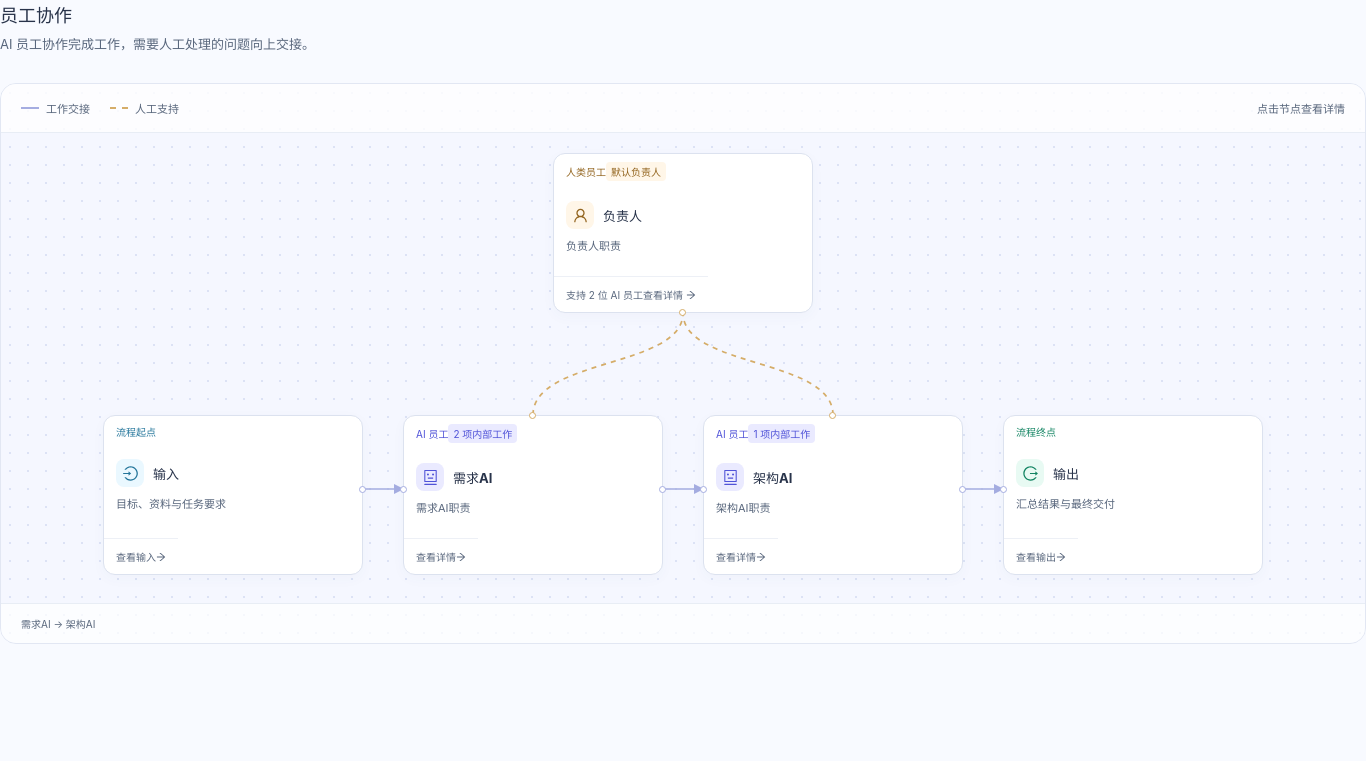
it: 默认显示输入输出节点，点击展示实际要求
Click the button "流程起点 输入 目标、资料与任务要求 查看输入": (136, 432) [103,415,363,575]
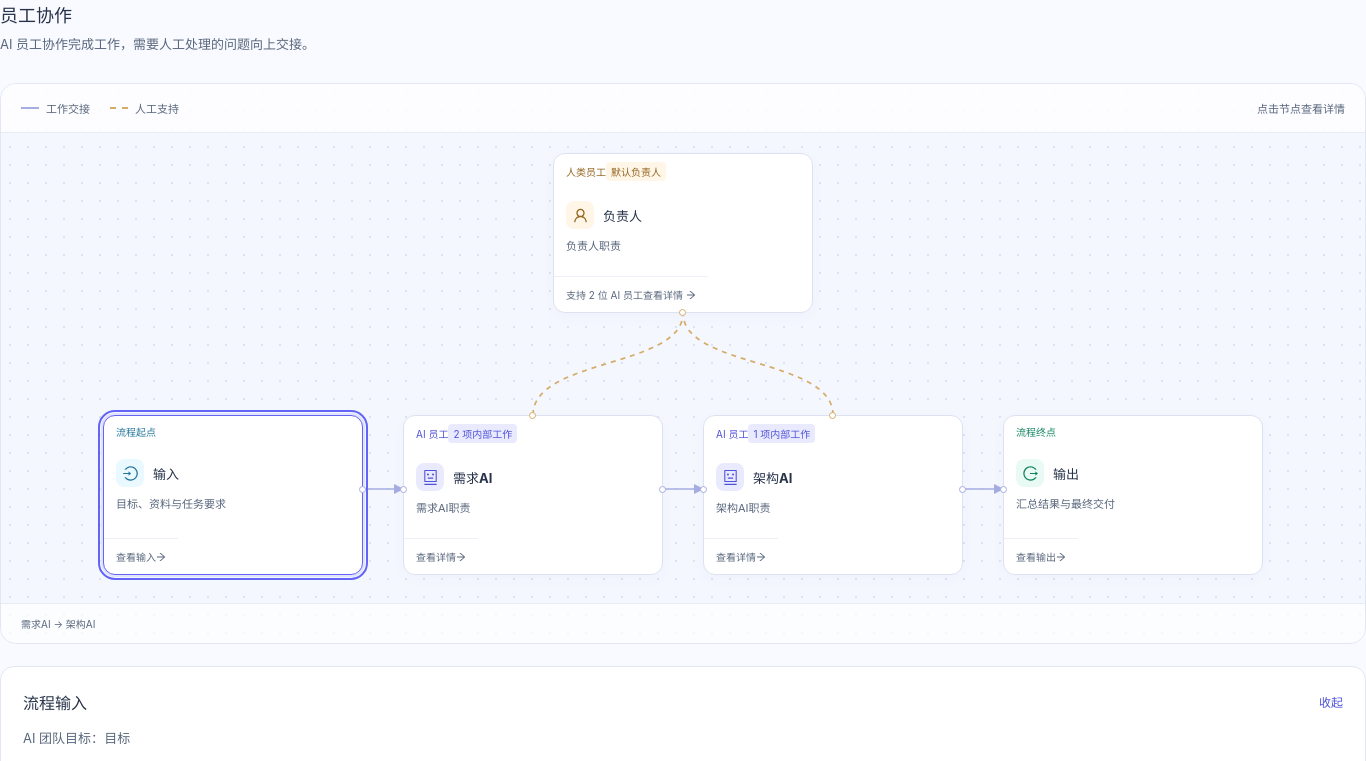
Click the button "流程终点 输出 汇总结果与最终交付 查看输出": (1036, 432) [1003,415,1263,575]
(page scrolled)
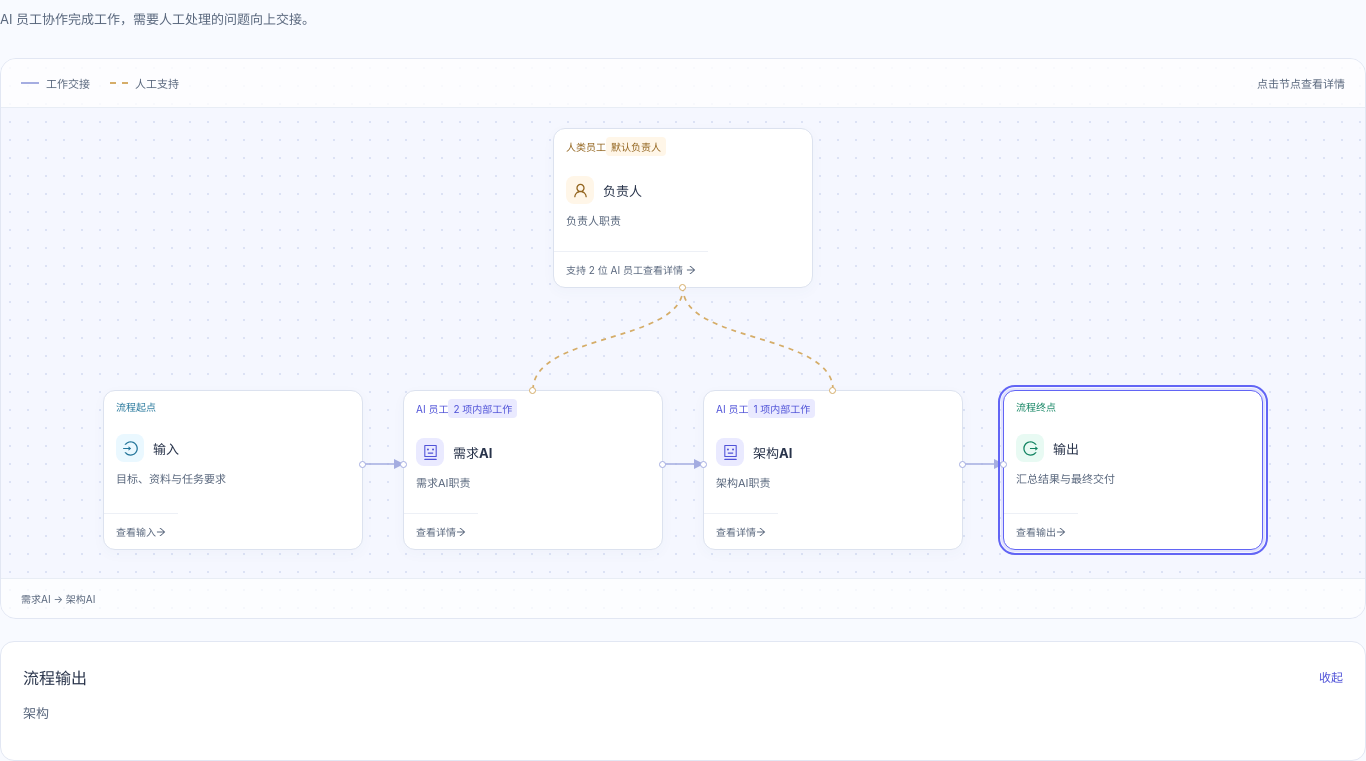
Expected: the element named "流程输出详情" shows "架构", [23,705,49,721]
